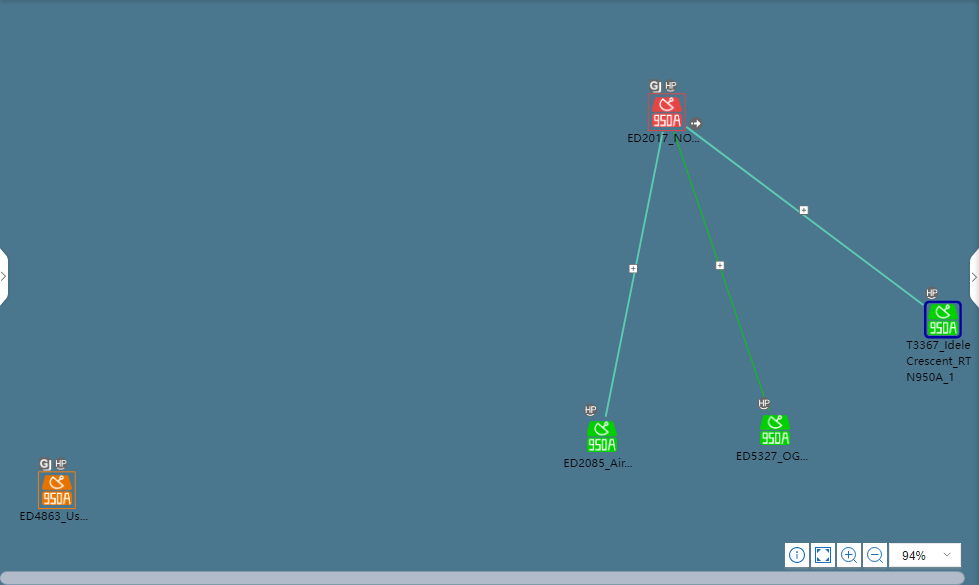Link_Blue: (688, 124, 922, 305), (603, 130, 668, 415)
Link_Green: (670, 130, 772, 416)
RTN_Green: (927, 302, 962, 337), (584, 424, 620, 452), (762, 418, 791, 447)
RTN_Orange: (40, 473, 73, 507)
RTN_Red: (652, 94, 687, 127)
